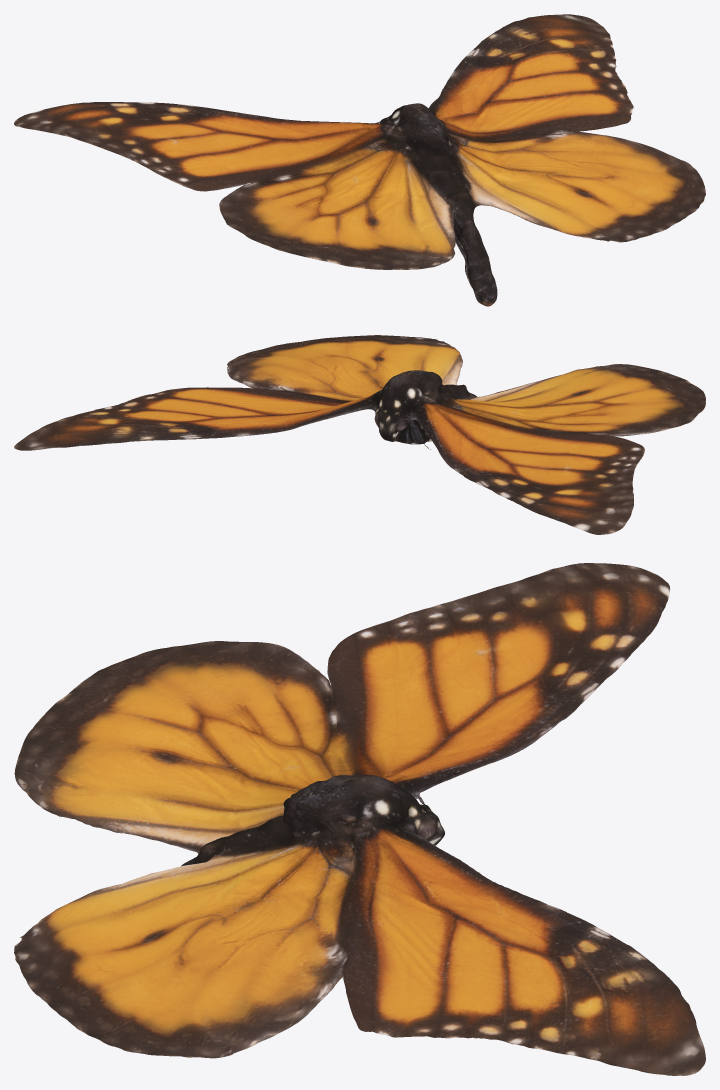
File: monarch_Fin.glb
3 views of the same model, one above another, from view 1: azimuth 30°, elevation 25°; view 2: azimuth 150°, elevation 25°; view 3: azimuth 270°, elevation 25° (orthographic). The views are drawn at different scales.
Visible parts, largest first — view 1: Object_3, Object_2, Object_4; view 2: Object_3, Object_2, Object_4; view 3: Object_3, Object_2, Object_4.
Boxes of the visible parts, left/top/right/bottom form: Object_3: left=14, top=102, right=705, bottom=306; Object_2: left=249, top=14, right=633, bottom=273; Object_4: left=15, top=14, right=704, bottom=269; Object_3: left=227, top=335, right=705, bottom=534; Object_2: left=14, top=357, right=475, bottom=450; Object_4: left=15, top=335, right=703, bottom=532; Object_3: left=14, top=563, right=669, bottom=1058; Object_2: left=121, top=758, right=705, bottom=1075; Object_4: left=14, top=567, right=703, bottom=1075.
Bounding box in the file's own units: 2.91 × 0.6633 × 1.96.
1 material, 1 textured.
